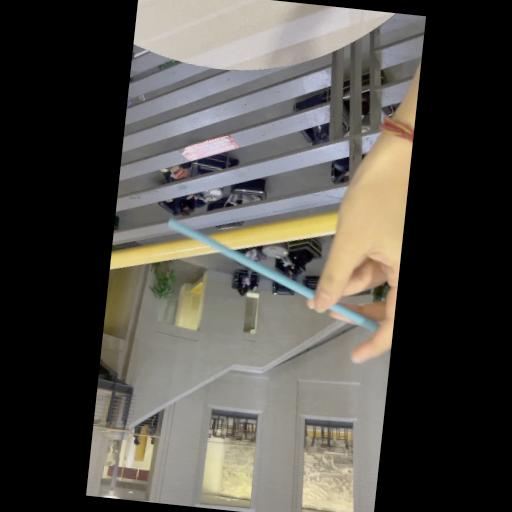straw: (158, 216, 392, 338)
